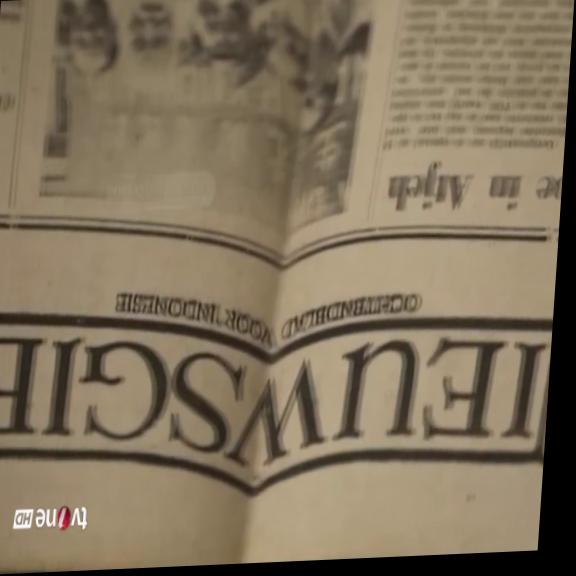Kertas: (0, 0, 575, 571), (357, 0, 576, 236)
